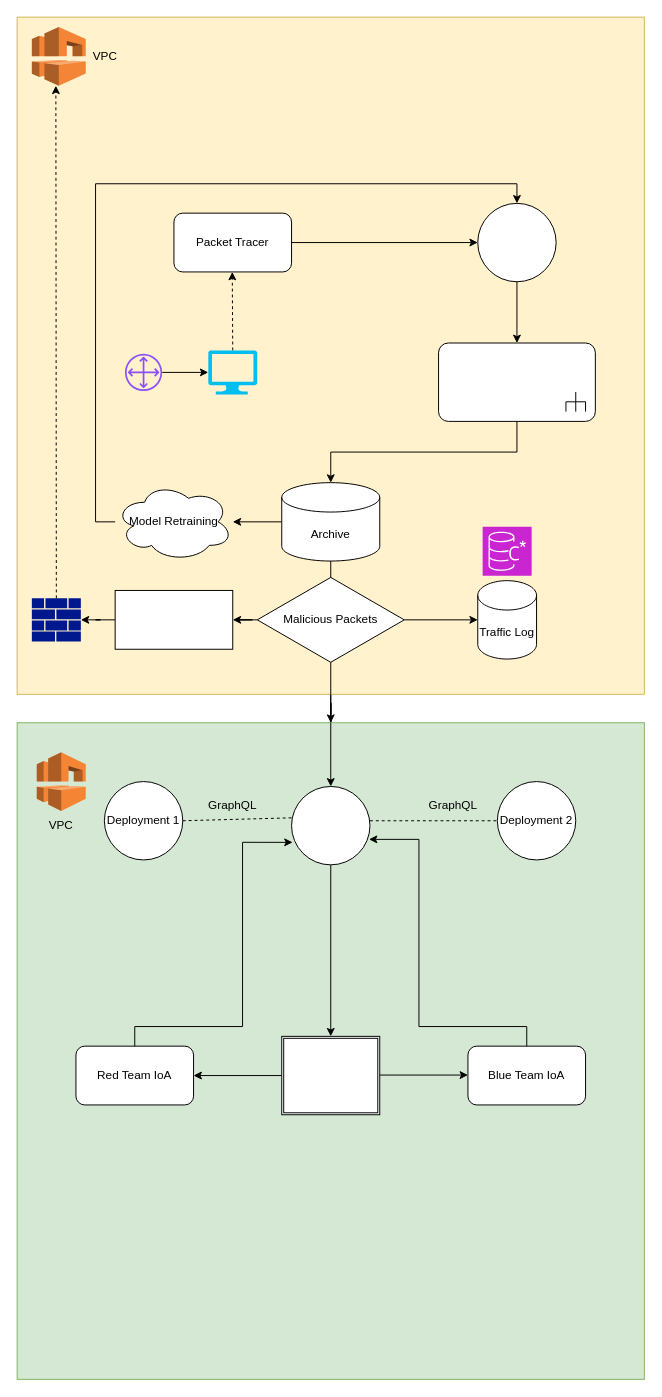
The diagram is 662 pixels wide and 1397 high, and some of its shapes have lost their labels. Each missing label, with the box of its shape:
Admin UI Dashboard: (281, 1035, 380, 1115)
Central Deployment: (291, 785, 370, 865)
Data Processing: (114, 589, 233, 649)
ML Model: (477, 202, 556, 282)
packetId:Malicious / packetId:benign / packetId:outlier: (438, 342, 595, 421)
